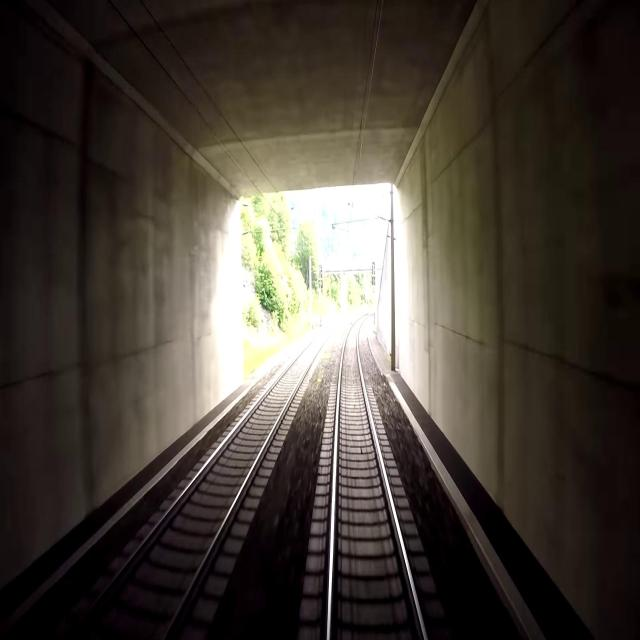rail-track: (68, 329, 330, 639), (331, 316, 422, 639)
